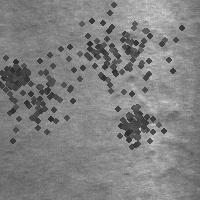rolled-in_scale: (80, 0, 198, 107), (0, 35, 94, 153), (52, 1, 152, 101), (119, 31, 172, 123), (106, 93, 164, 151), (0, 53, 34, 95)
